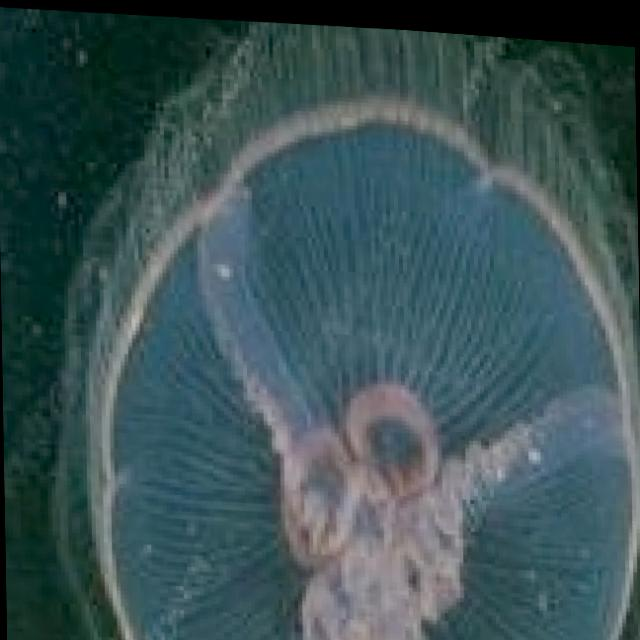Moon-jellyfish: (25, 1, 640, 640)
